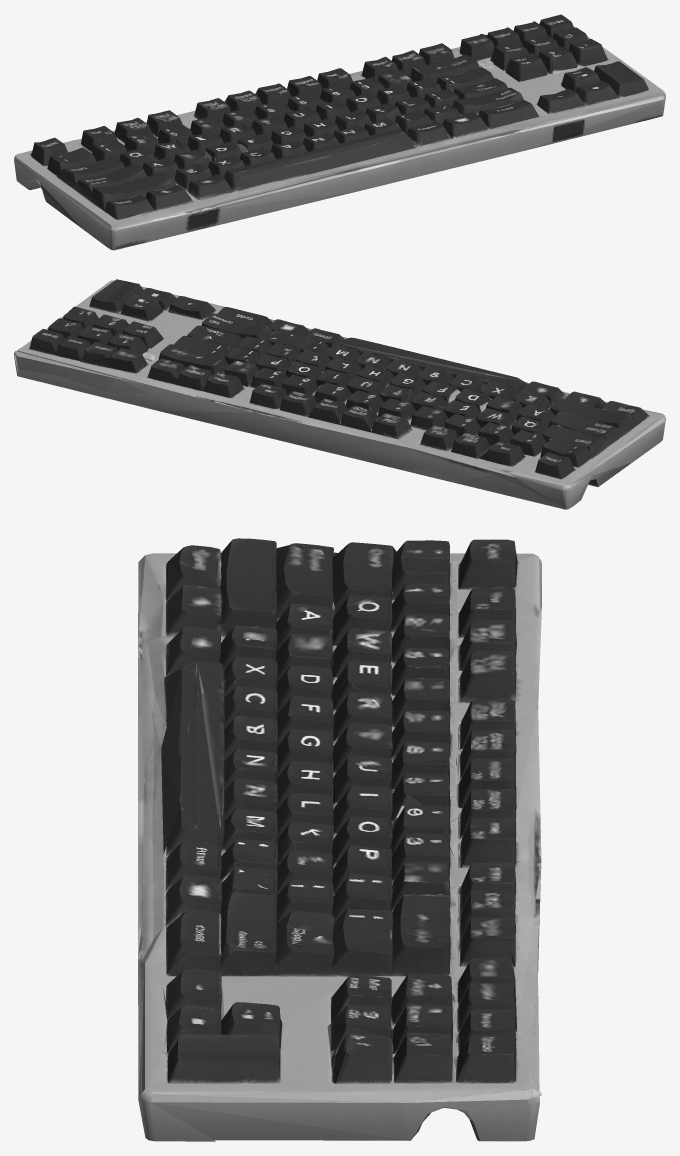
File: Keyboard.fbx
3 views of the same model, one above another, from view 1: azimuth 30°, elevation 25°; view 2: azimuth 150°, elevation 25°; view 3: azimuth 270°, elevation 25° (orthographic). The views are drawn at different scales.
Visible parts, largest first — view 1: Meshy_Remeshed; view 2: Meshy_Remeshed; view 3: Meshy_Remeshed.
Part boxes in pixels (box(x1,y1,x2,y2)): Meshy_Remeshed: box(14, 14, 665, 250); Meshy_Remeshed: box(14, 279, 665, 509); Meshy_Remeshed: box(138, 538, 541, 1141).
Size of the model in its own units: 190 by 12.69 by 59.86.
Materials: 1 (1 with a texture image).
